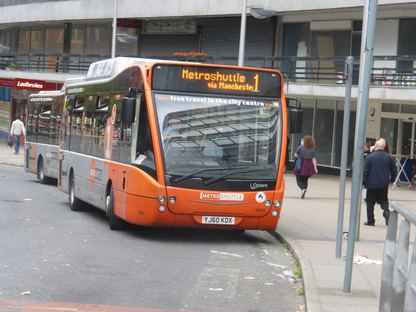bus: (59, 57, 303, 231), (21, 75, 82, 186)
